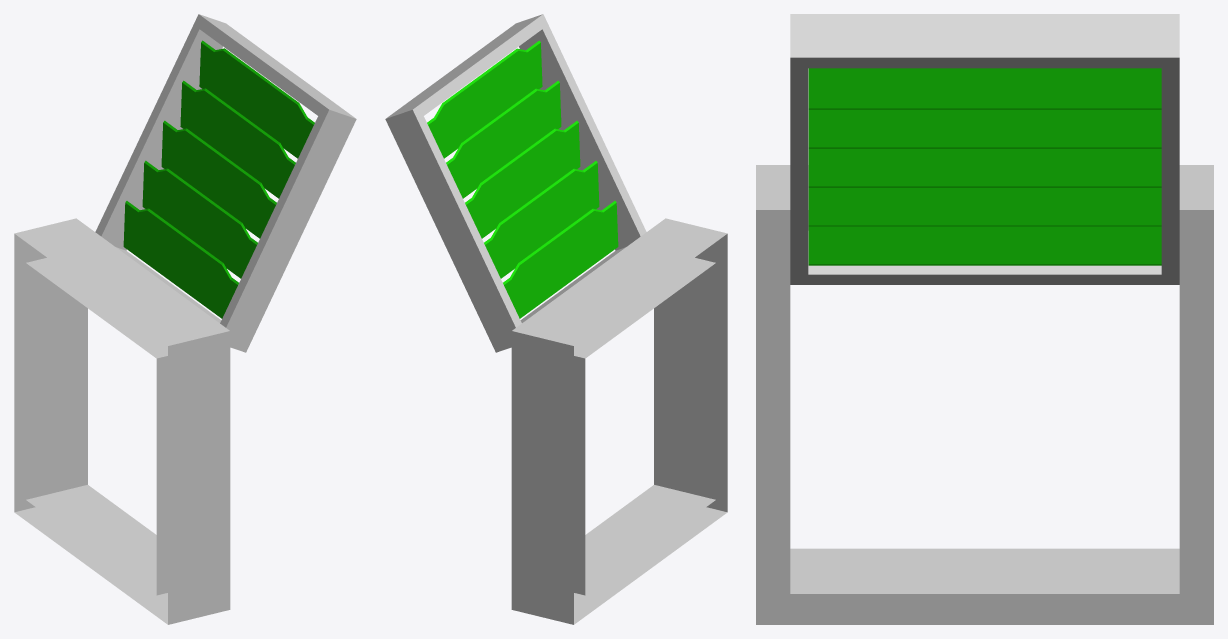
Rendered from SM_VentEntr.fbx.
The picture shows the model from 3 angles, left to right: view 1: azimuth 30°, elevation 25°; view 2: azimuth 150°, elevation 25°; view 3: azimuth 270°, elevation 25°; orthographic projection. The views are drawn at different scales.
Visible parts, largest first — view 1: Vents.001, Plane.001, Vents.002; view 2: Vents.001, Plane.001, Vents.002; view 3: Plane.001, Vents.001, Vents.002.
Part boxes in pixels (<box>): Vents.001: <box>14,218,230,624</box>; Plane.001: <box>123,40,314,318</box>; Vents.002: <box>95,14,356,352</box>; Vents.001: <box>511,218,727,624</box>; Plane.001: <box>427,40,618,318</box>; Vents.002: <box>385,14,646,352</box>; Plane.001: <box>808,68,1161,265</box>; Vents.001: <box>756,165,1213,624</box>; Vents.002: <box>790,14,1179,284</box>.
Size of the model in its own units: 88.4 by 196 by 118.
